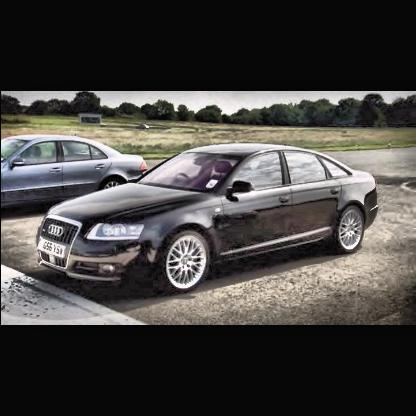Audi S6 Sedan 2011: (36, 144, 380, 294)
